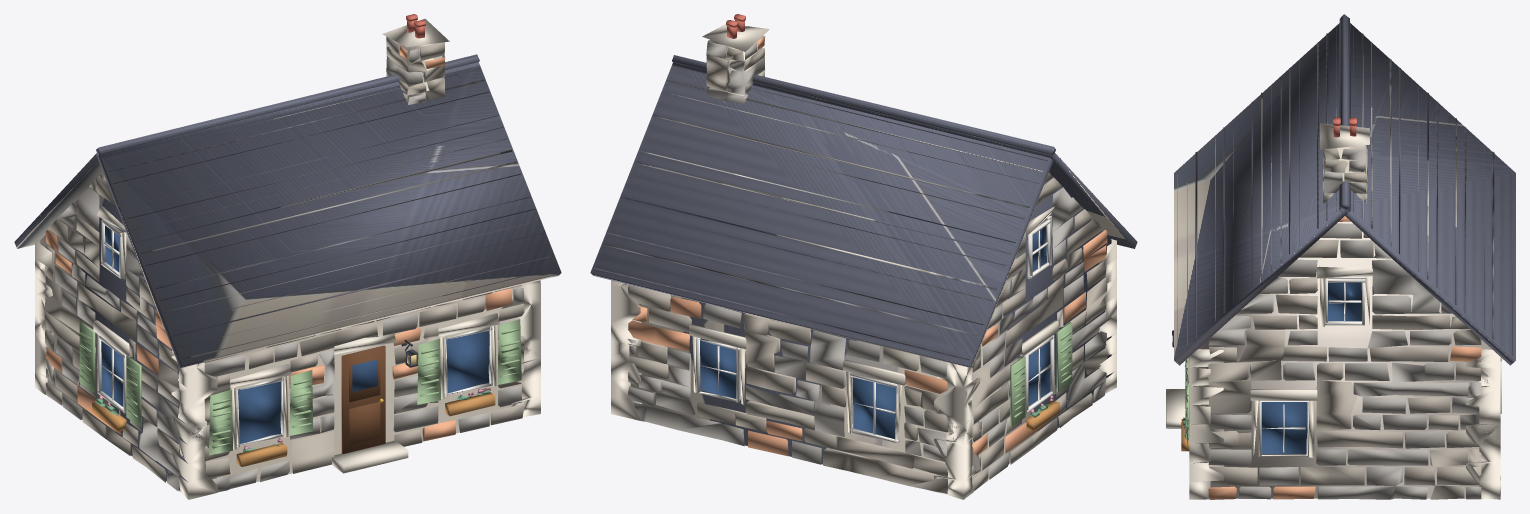
The model's file is stone-house.glb.
3 renders of one model, left to right at view 1: azimuth 30°, elevation 25°; view 2: azimuth 150°, elevation 25°; view 3: azimuth 270°, elevation 25°, orthographic.
Parts seen in each view (by area): view 1: stone-house_body, stone-house_details, stone-house_stonework; view 2: stone-house_body, stone-house_stonework, stone-house_details; view 3: stone-house_body, stone-house_stonework, stone-house_details.
Boxes of the visible parts, left/top/right/bottom form: stone-house_body: left=14, top=38, right=561, bottom=491; stone-house_details: left=35, top=14, right=540, bottom=499; stone-house_stonework: left=44, top=36, right=524, bottom=492; stone-house_body: left=590, top=36, right=1137, bottom=493; stone-house_stonework: left=627, top=35, right=1107, bottom=493; stone-house_details: left=611, top=14, right=1116, bottom=499; stone-house_body: left=1174, top=14, right=1515, bottom=498; stone-house_stonework: left=1208, top=145, right=1481, bottom=499; stone-house_details: left=1166, top=117, right=1501, bottom=499.
Bounding box in the file's own units: 8.74 × 7.74 × 6.88.
17 materials, 1 textured.
